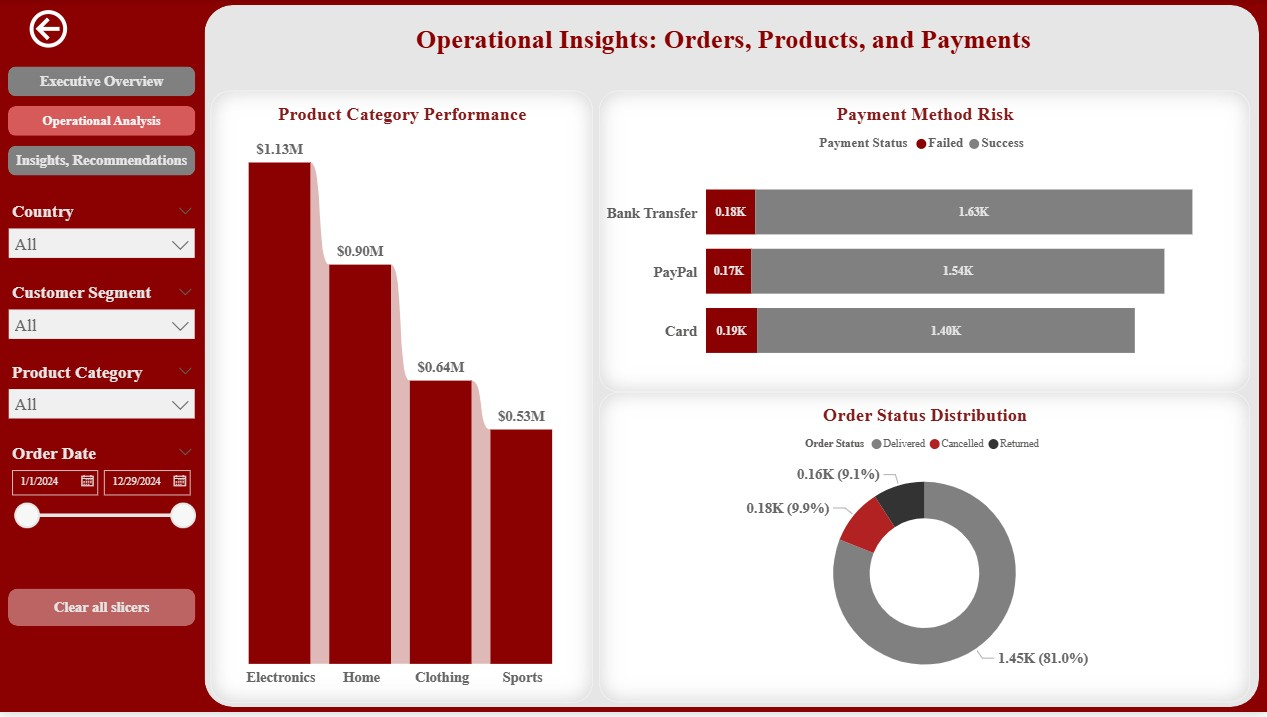

The dashboard page shown, as its layout file describes it:
{"tool":"powerbi","page":{"name":"Operational Analysis","canvas":[1280,720],"ordinal":1},"visuals":[{"type":"shape","box":[207.4,6.1,1064.5,708.6],"z":0},{"type":"actionButton","box":[9.1,595.1,189.3,37.9],"z":1000},{"type":"pageNavigator","box":[9.6,67.4,189.4,112.4],"z":2000},{"type":"donutChart","title":"Order Status Distribution","fields":{"Category":["Final_Dataset.status"],"Y":["Count(Final_Dataset.order_id)"]},"box":[605.7,396.7,657.2,313.4],"z":3000},{"type":"columnChart","title":"Product Category Performance","fields":{"Category":["Final_Dataset.category"],"Y":["Measure.Total Revenue"]},"box":[213.5,92.4,386.1,617.8],"z":4000},{"type":"barChart","title":"Payment Method Risk","fields":{"Category":["Final_Dataset.payment_method"],"Y":["CountNonNull(Final_Dataset.order_id)"],"Series":["Final_Dataset.payment_status"]},"box":[605.7,92.4,657.2,304.4],"z":5000},{"type":"textbox","box":[207.4,19.7,1047.8,96.9],"z":6000},{"type":"actionButton","box":[25.7,6.4,115.6,48.2],"z":7000},{"type":"slicer","fields":{"Values":["Final_Dataset.country"]},"box":[0,199.9,207.4,81.8],"z":10000},{"type":"slicer","fields":{"Values":["Final_Dataset.segment"]},"box":[0,281.6,207.4,80.3],"z":11000},{"type":"slicer","fields":{"Values":["Final_Dataset.category"]},"box":[0,361.9,207.4,81.8],"z":12000},{"type":"slicer","fields":{"Values":["Final_Dataset.order_date"]},"box":[0,443.7,207.4,151.4],"z":13000}]}

Visuals, with their boxes in screenshot pixels (x1, y1, x2, y2), scaled from the page's 1280x720 canvas onto the 1267x717 screenshot:
shape: <box>205,6,1259,712</box>
actionButton: <box>9,593,196,630</box>
pageNavigator: <box>10,67,197,179</box>
"Order Status Distribution" donutChart: <box>600,395,1250,707</box>
"Product Category Performance" columnChart: <box>211,92,594,707</box>
"Payment Method Risk" barChart: <box>600,92,1250,395</box>
textbox: <box>205,20,1242,116</box>
actionButton: <box>25,6,140,54</box>
slicer - Final_Dataset.country: <box>0,199,205,281</box>
slicer - Final_Dataset.segment: <box>0,280,205,360</box>
slicer - Final_Dataset.category: <box>0,360,205,442</box>
slicer - Final_Dataset.order_date: <box>0,442,205,593</box>
